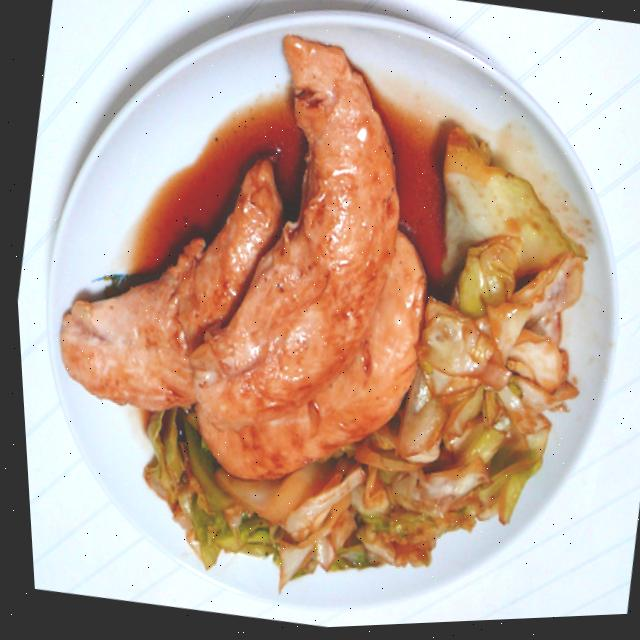蔬菜料理: (105, 81, 626, 618)
